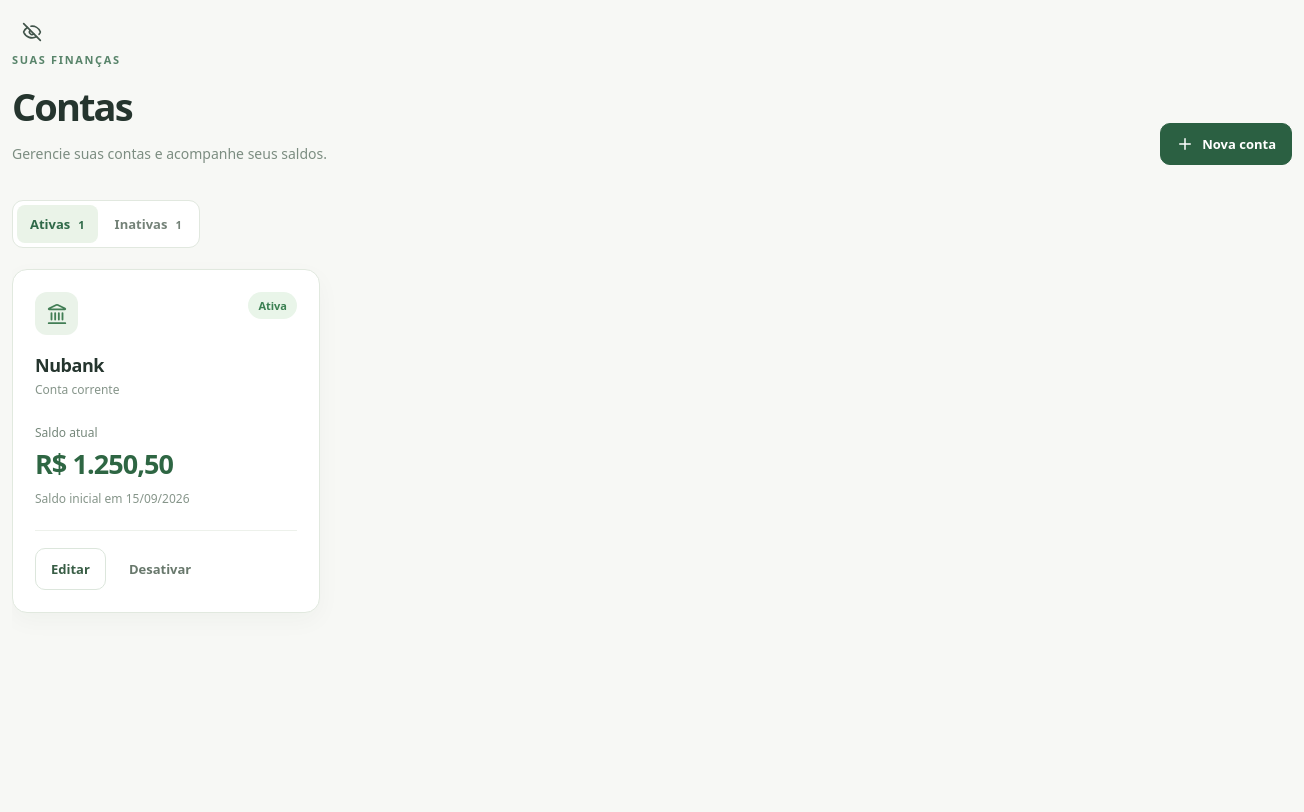
it: hides and reveals active and inactive balances without changing accounts
Click the button named "Ocultar" at (32, 32), box [12,12,52,52]
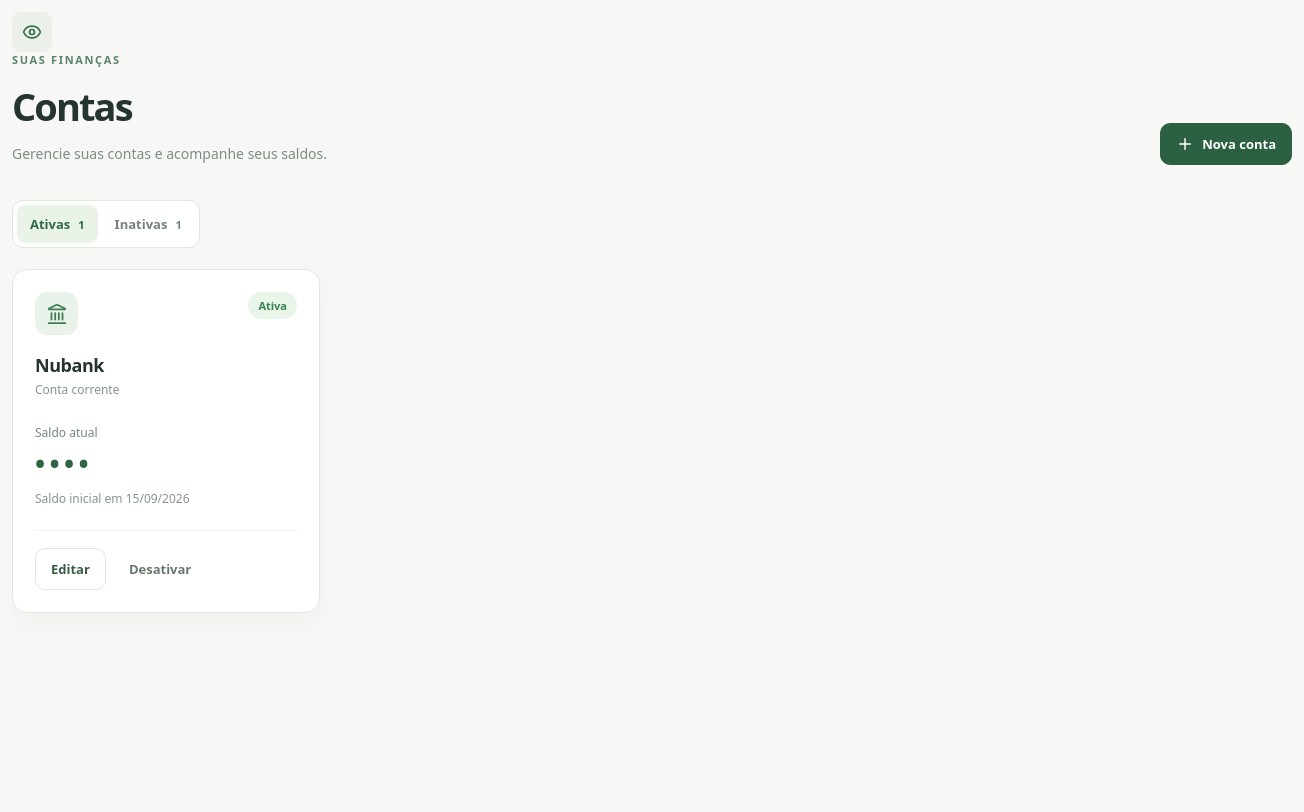
Check: the heading "Nubank" is shown, box [35,353,104,377]
Check: the text "R$ 1.250,50" is gone
Click the button "Inativas 1" at (148, 224), box [102,205,195,243]
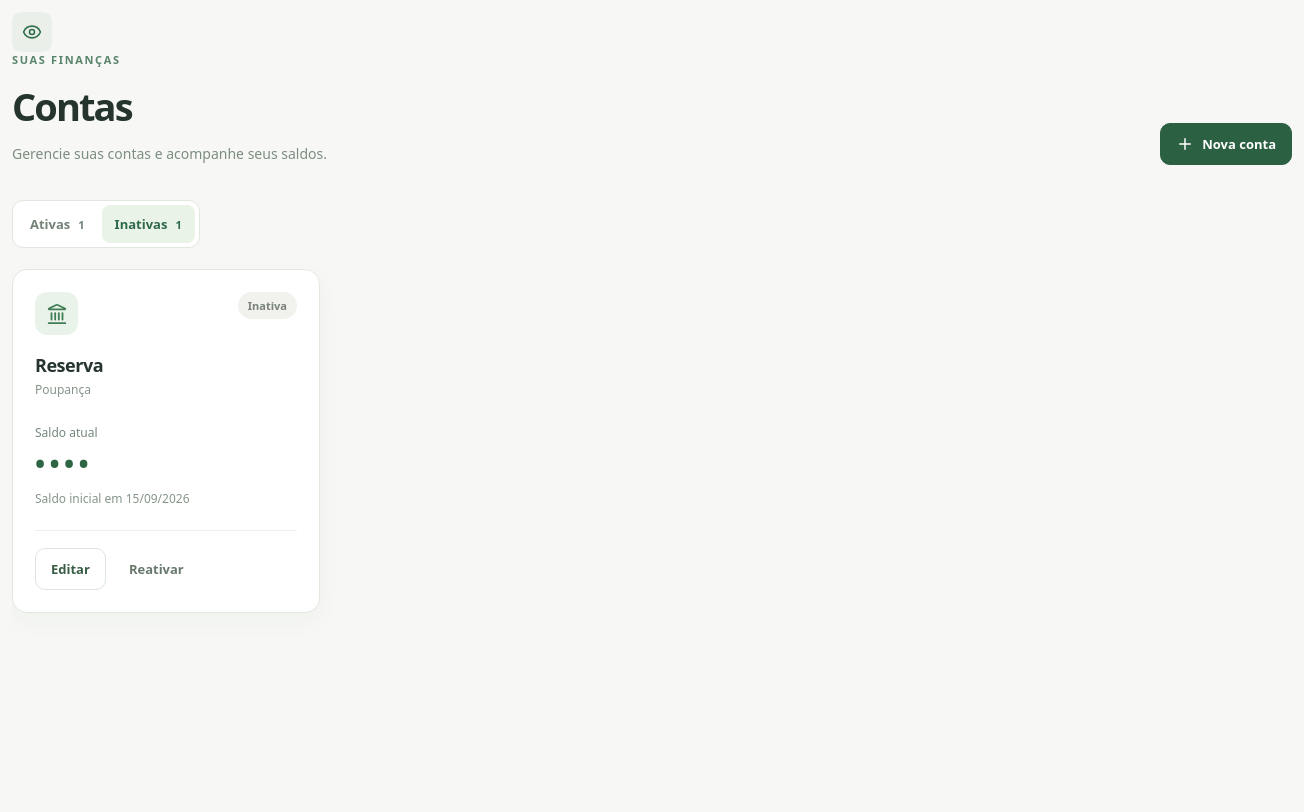
Check: the heading "Reserva" is shown, box [35,353,103,377]
Click the button named "Mostrar" at (32, 32), box [12,12,52,52]
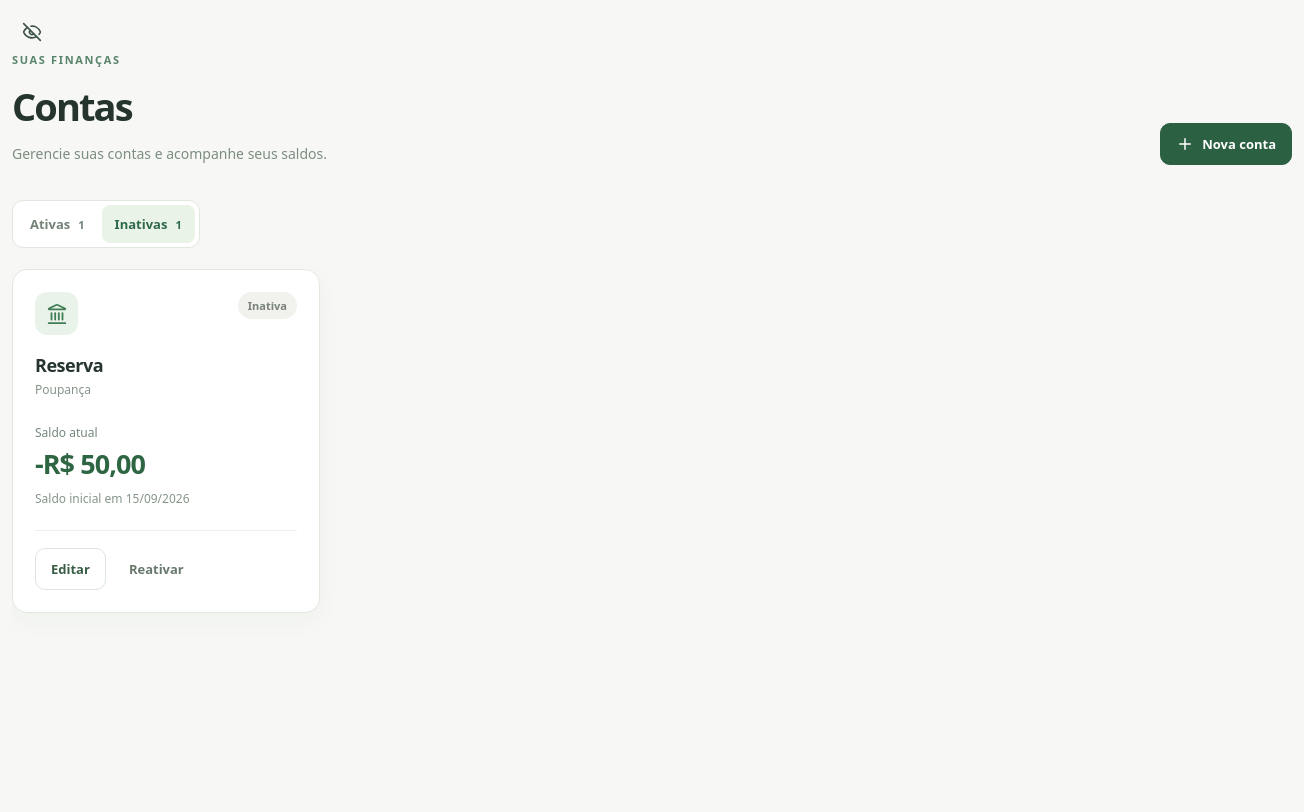
Check: the text "-R$ 50,00" is shown, box [35,445,145,482]
Click the button "Ativas 1" at (57, 224), box [17,205,98,243]
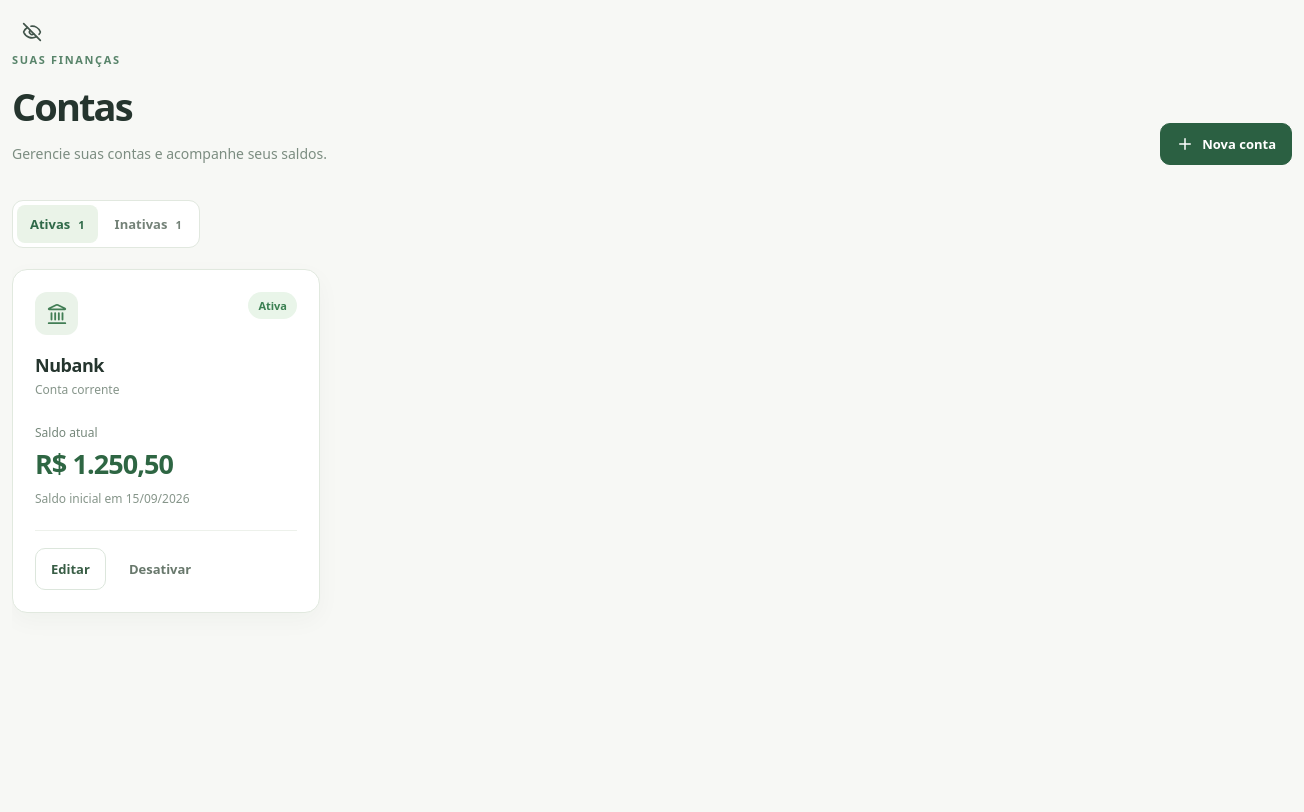
Check: the text "R$ 1.250,50" is shown, box [35,445,173,482]
